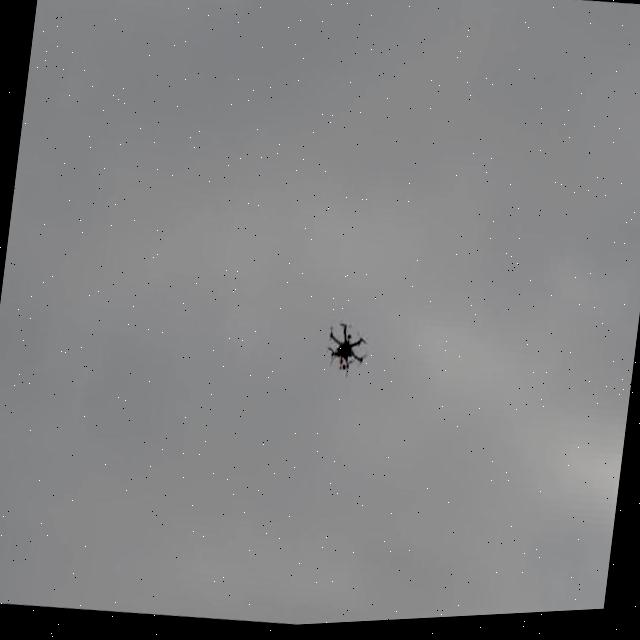drone: (322, 317, 369, 381)
